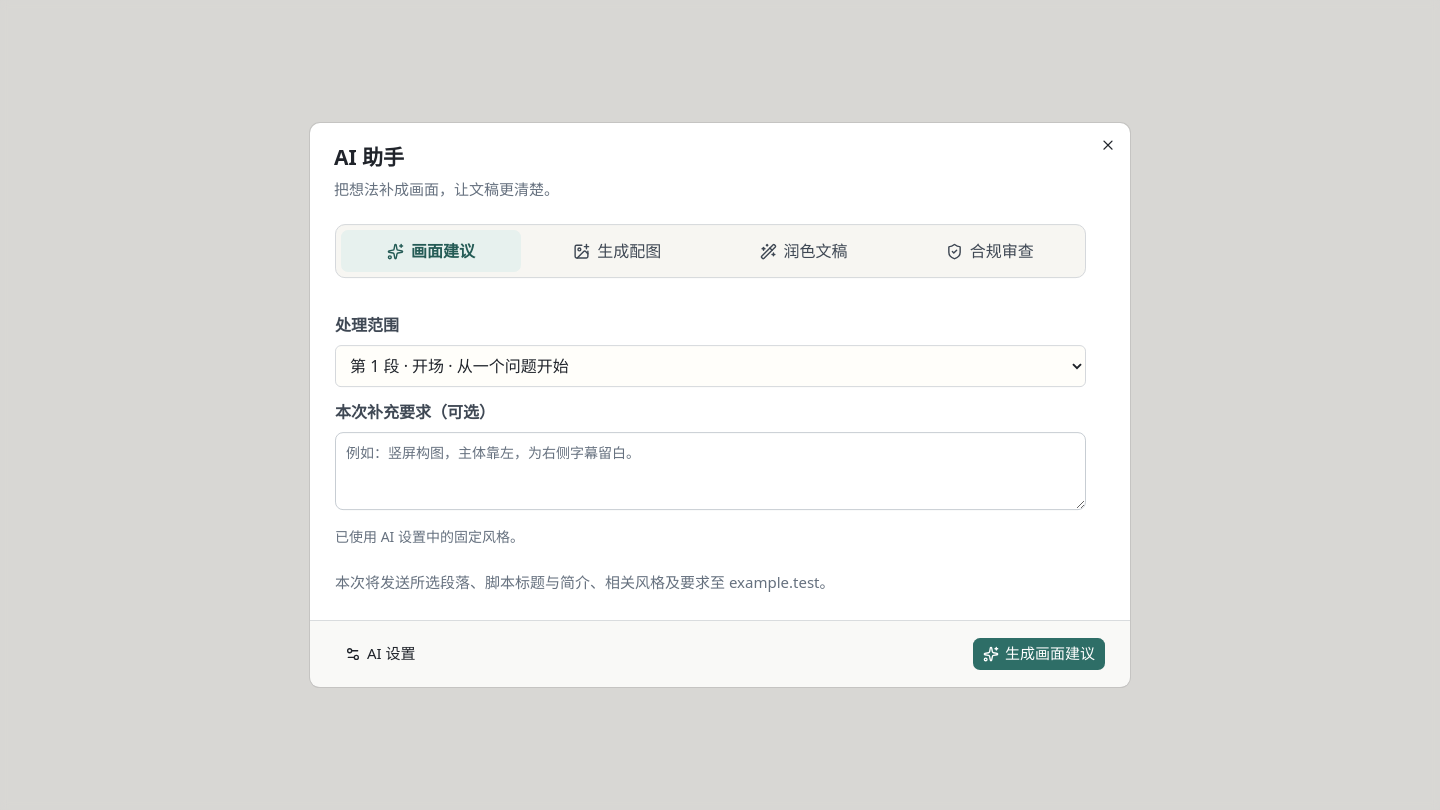
Test: AI editor workflows › requests structured output for visual before showing a result
Click the button "生成画面建议".
click(1039, 654)  # box x1=972 y1=637 x2=1106 y2=671
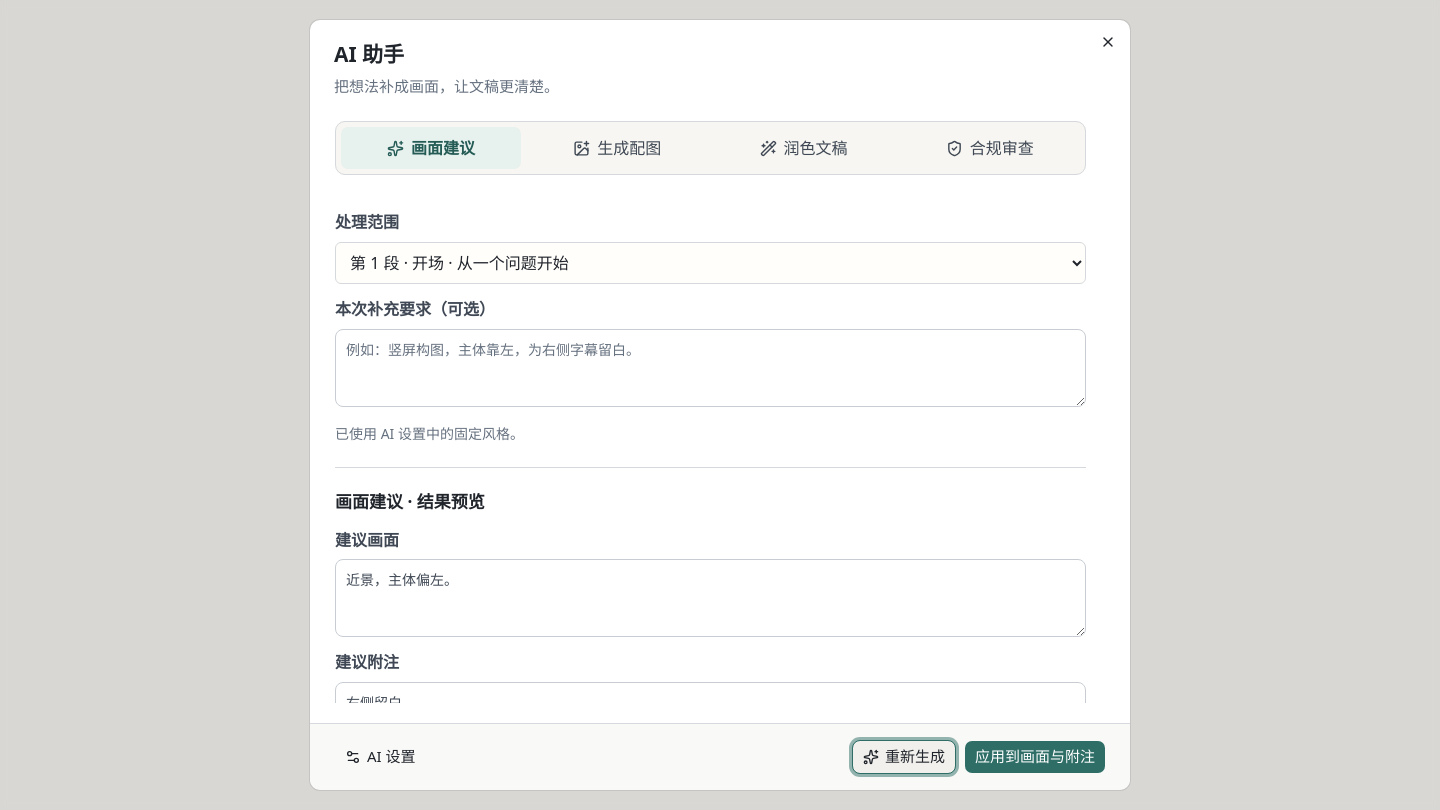
expect the button "应用到画面与附注" is shown: met, box x1=964 y1=740 x2=1106 y2=774
